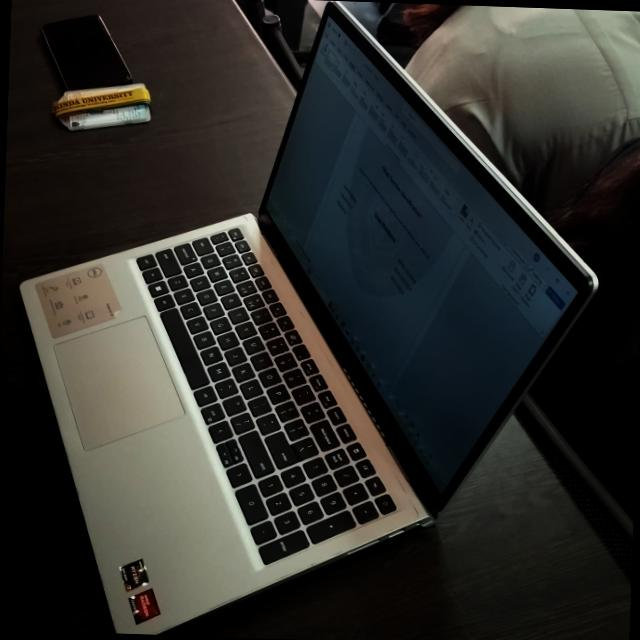laptop: (14, 131, 640, 630)
